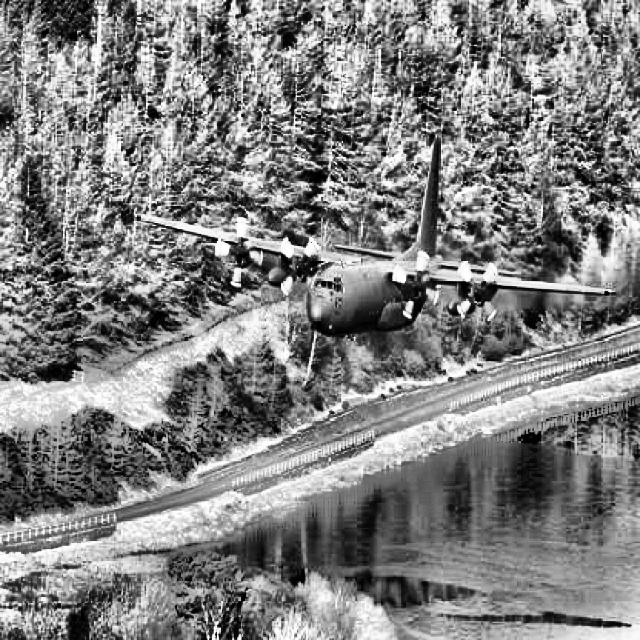C130: (135, 134, 618, 338)
